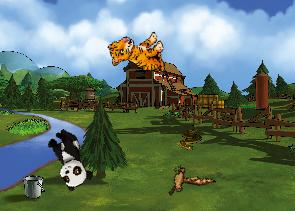eagle: (157, 152, 216, 208)
panda: (41, 125, 96, 192)
tiger: (106, 26, 170, 84)
